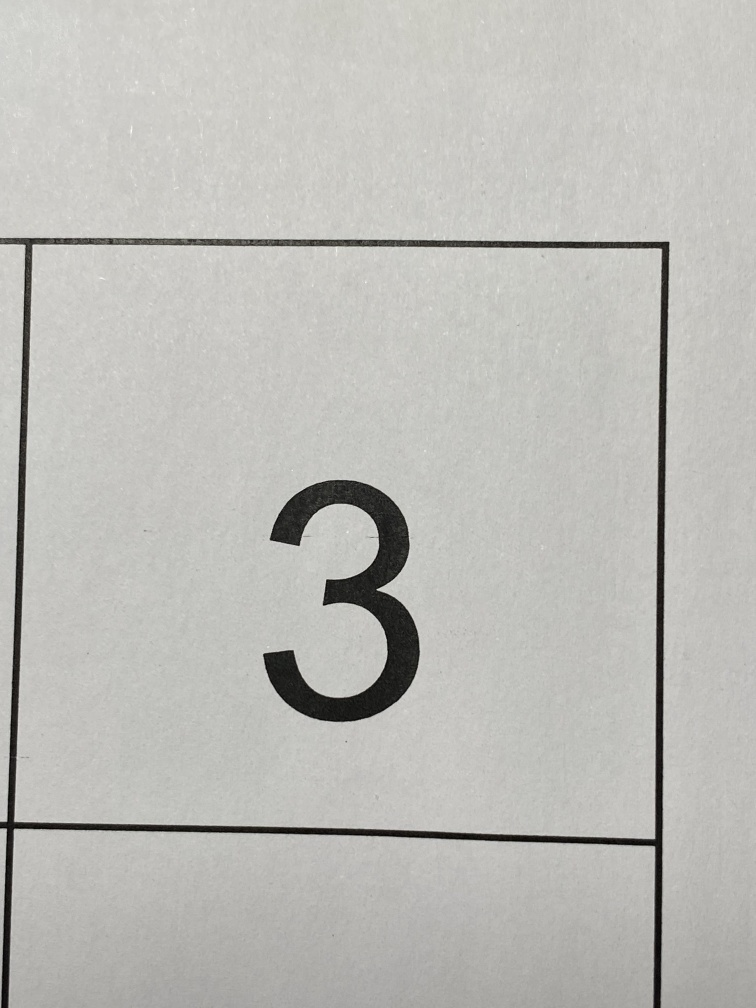three: (211, 417, 479, 784)
